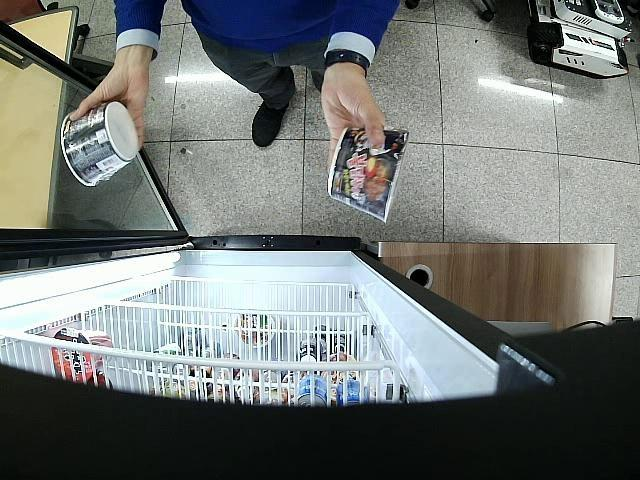07_buldak_L: (327, 128, 410, 222), (62, 100, 140, 186)
